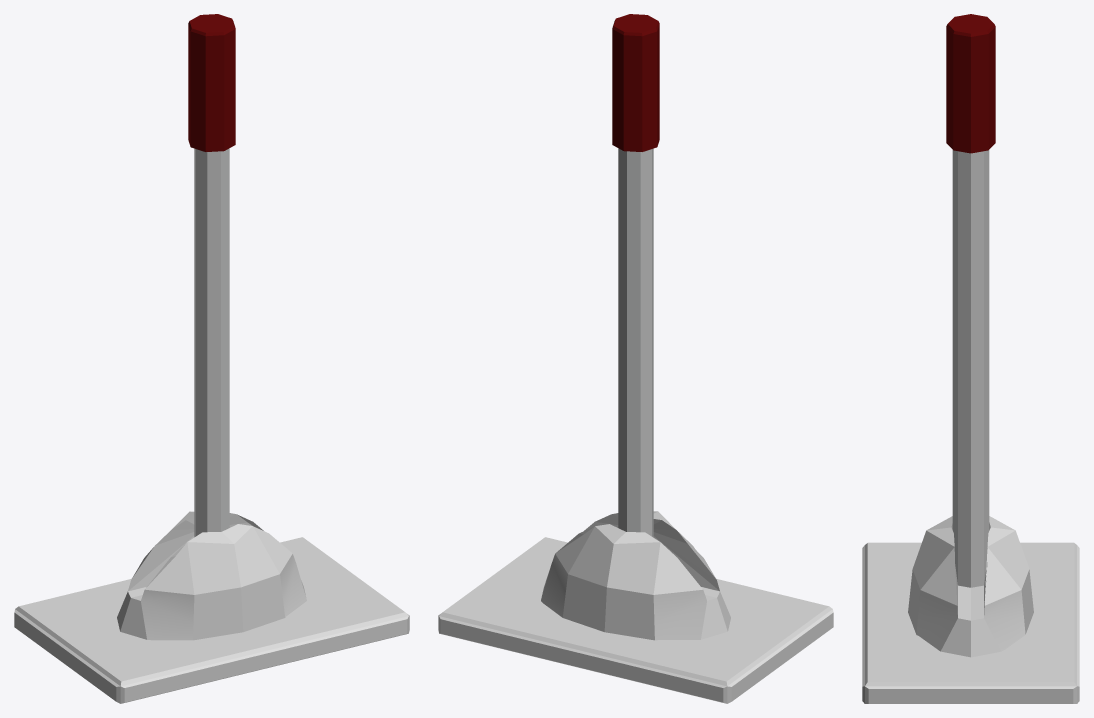
The model's file is Lever.fbx.
3 renders of one model, left to right at view 1: azimuth 30°, elevation 25°; view 2: azimuth 150°, elevation 25°; view 3: azimuth 270°, elevation 25°, orthographic.
Parts seen in each view (by area): view 1: pCube2; view 2: pCube2; view 3: pCube2.
Part boxes in pixels (left/top/right/bottom): pCube2: left=14, top=14, right=409, bottom=703; pCube2: left=438, top=14, right=833, bottom=703; pCube2: left=862, top=14, right=1079, bottom=703.
Size of the model in its own units: 62.02 by 123 by 39.57.
